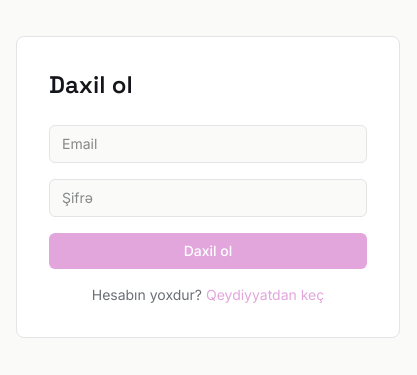
Scenario: Login › shows validation errors on empty submit
Click the button "Daxil ol": (208, 251) [49,233,367,269]
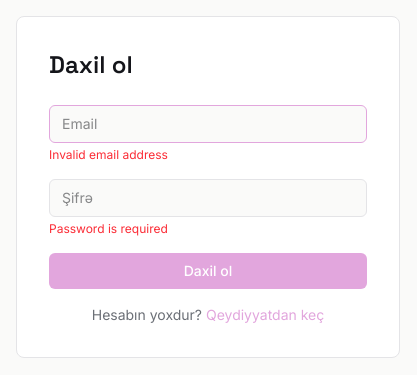
expect the text "Invalid email address" is shown: met, box [49,147,168,162]
